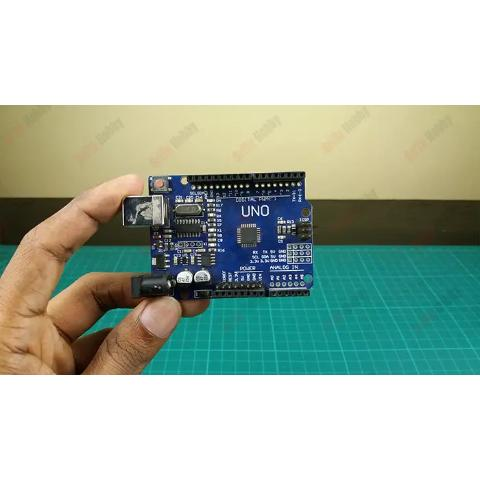Arduino-Uno: (120, 169, 316, 303)
